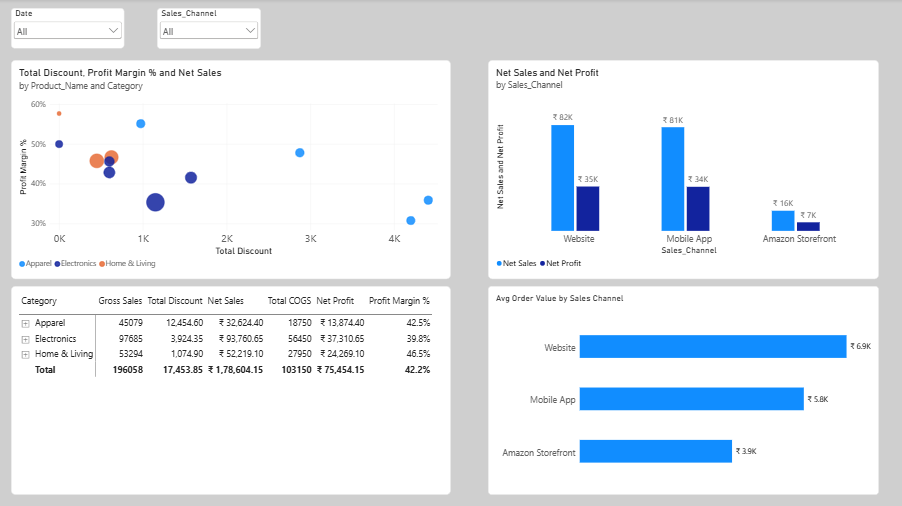

What the dashboard file says about the page in this screenshot:
{"tool":"powerbi","page":{"name":"Category & Channel Deep-Dive","canvas":[1920,1080],"ordinal":1},"visuals":[{"type":"slicer","fields":{"Values":["dim_date.Date"]},"box":[25.5,19.1,240.6,86.2],"z":0},{"type":"slicer","fields":{"Values":["fact_orders.Sales_Channel"]},"box":[335.9,19.1,221.1,87.2],"z":1000},{"type":"scatterChart","fields":{"Category":["dimProducts.Product_Name"],"Series":["dimProducts.Category"],"Size":["Measures (2).Net Sales"],"X":["Measures (2).Total Discount"],"Y":["Measures (2).Profit Margin %"]},"box":[25.5,129.7,935.4,465.6],"z":2000},{"type":"pivotTable","fields":{"Rows":["dimProducts.Category","dimProducts.Sub_Category"],"Values":["Measures (2).Gross Sales","Measures (2).Total Discount","Measures (2).Net Sales","Measures (2).Total COGS","Measures (2).Net Profit","Measures (2).Profit Margin %"]},"box":[25.5,610.2,935.4,444.3],"z":3000},{"type":"clusteredColumnChart","fields":{"Category":["fact_orders.Sales_Channel"],"Y":["Measures (2).Net Sales","Measures (2).Net Profit"]},"box":[1039.6,129.7,831.3,465.6],"z":4000},{"type":"clusteredBarChart","title":"Avg Order Value by Sales Channel","fields":{"Category":["fact_orders.Sales_Channel"],"Y":["Measures (2).Avg Order Value"]},"box":[1039.6,610.2,831.3,444.3],"z":5000}]}

Visuals, with their boxes in screenshot pixels (x1, y1, x2, y2), scaled from the page's 1920x1080 canvas onto the 902x506 screenshot:
slicer - dim_date.Date: 12,9,125,49
slicer - fact_orders.Sales_Channel: 158,9,262,50
scatterChart - dimProducts.Product_Name x dimProducts.Category: 12,61,451,279
pivotTable - dimProducts.Category x dimProducts.Sub_Category: 12,286,451,494
clusteredColumnChart - fact_orders.Sales_Channel x Measures (2).Net Sales: 488,61,879,279
"Avg Order Value by Sales Channel" clusteredBarChart: 488,286,879,494
